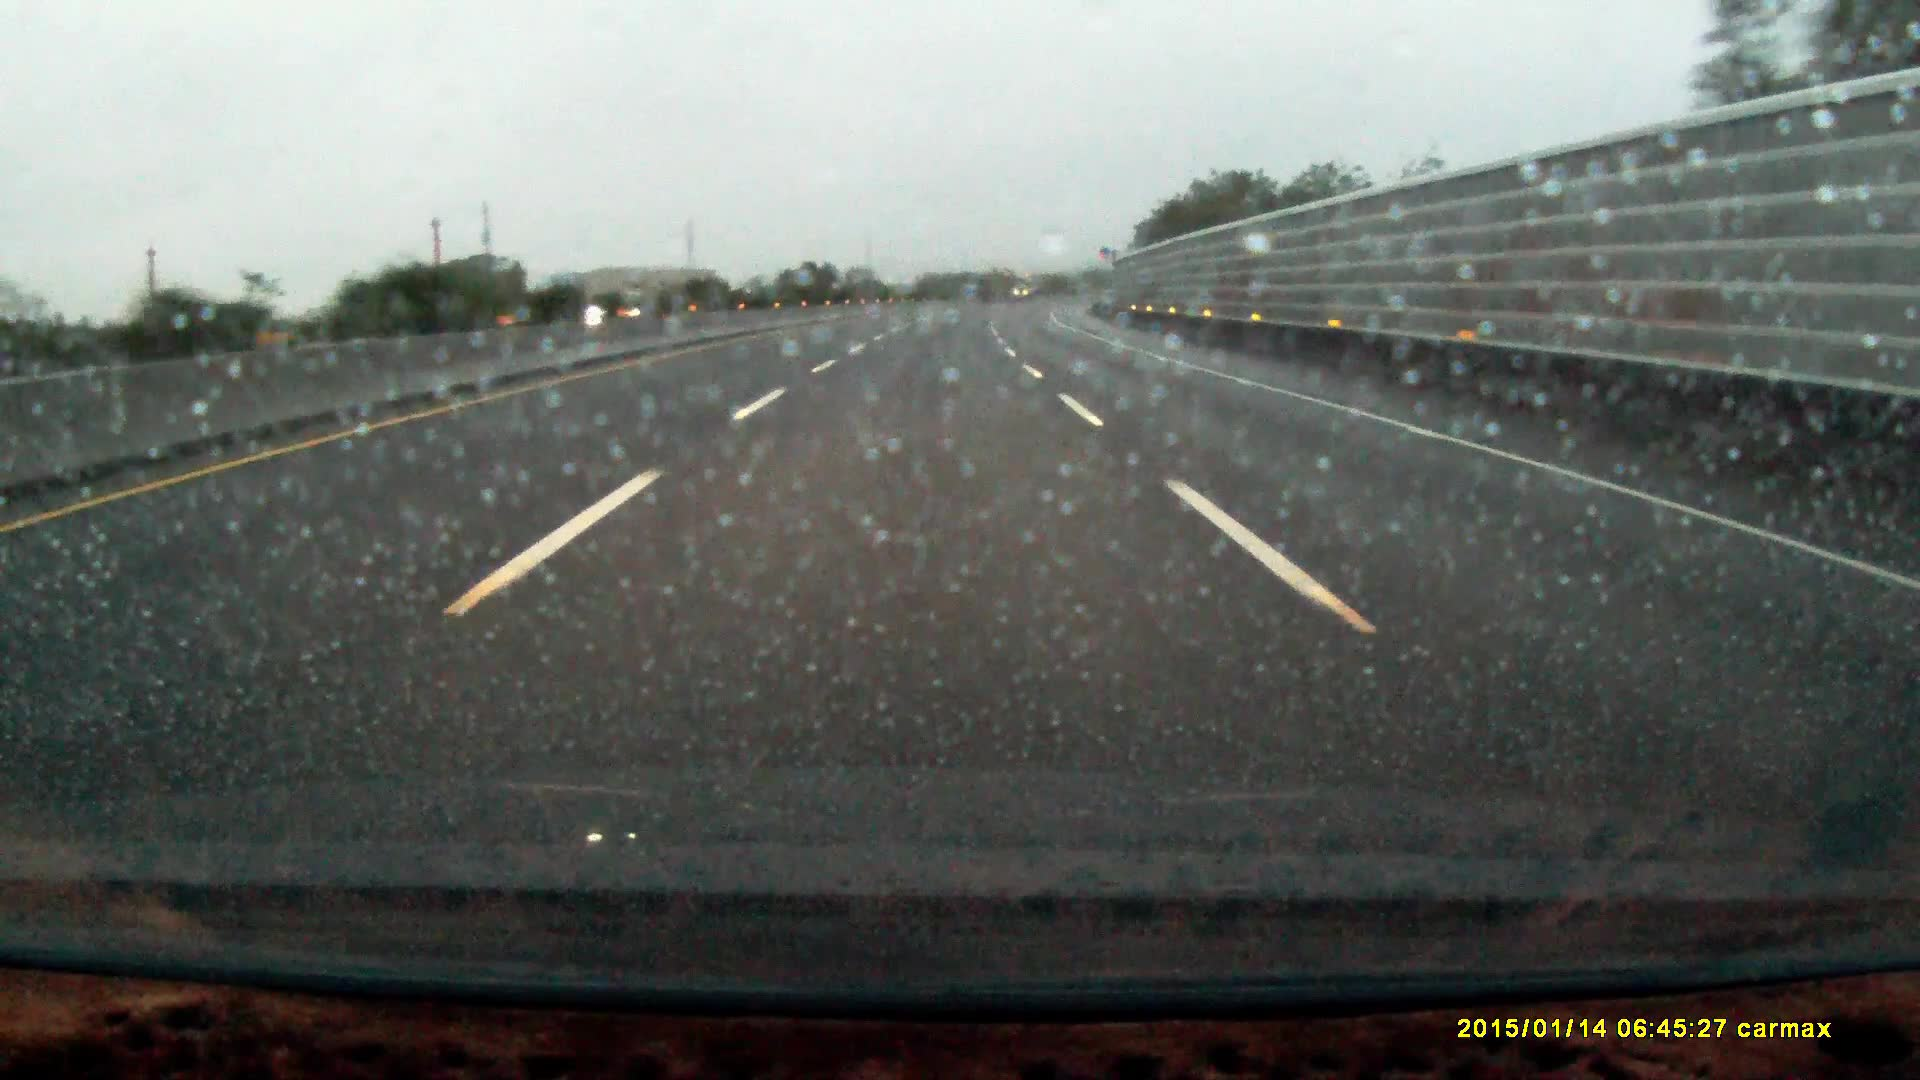vehicle: (587, 291, 659, 318)
